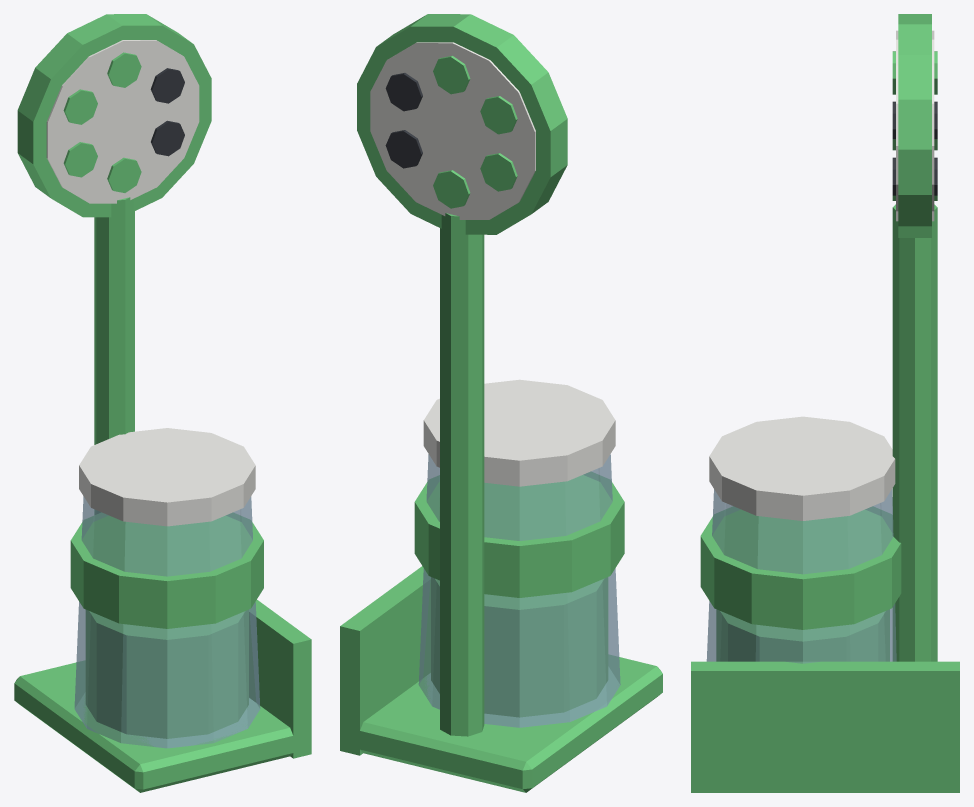
The model's file is coffee_m2_2.glb.
3 views of the same model, side by side, from view 1: azimuth 30°, elevation 25°; view 2: azimuth 150°, elevation 25°; view 3: azimuth 270°, elevation 25° (orthographic). The views are drawn at different scales.
Visible parts, largest first — view 1: coffee_m2_2_mesh; view 2: coffee_m2_2_mesh; view 3: coffee_m2_2_mesh.
Part boxes in pixels (box(x1,y1,x2,y2)): coffee_m2_2_mesh: box(14, 14, 311, 792); coffee_m2_2_mesh: box(340, 14, 662, 792); coffee_m2_2_mesh: box(691, 14, 959, 792).
Size of the model in its own units: 0.1975 by 0.71 by 0.24.
